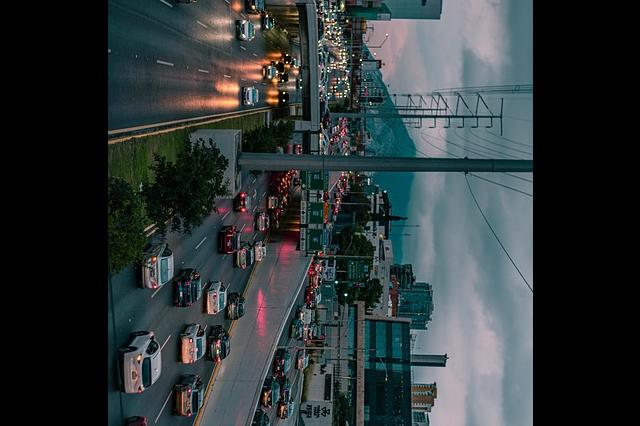Non_Gorille: (110, 0, 529, 426)
